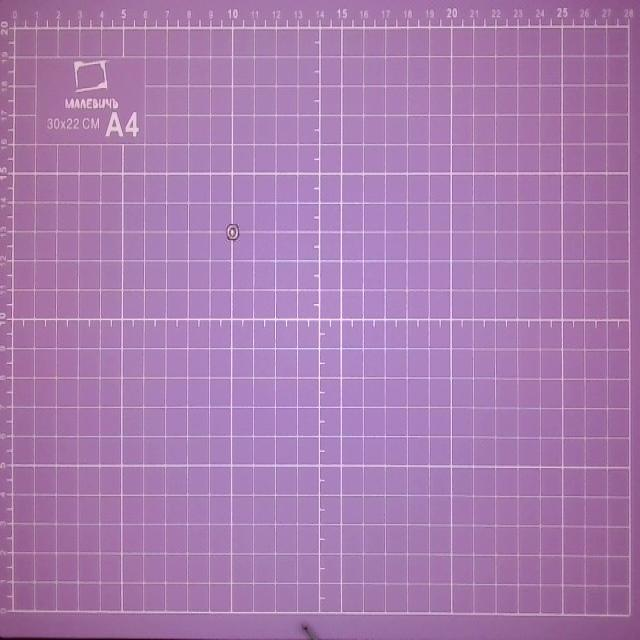screw_M3: (222, 222, 240, 243)
